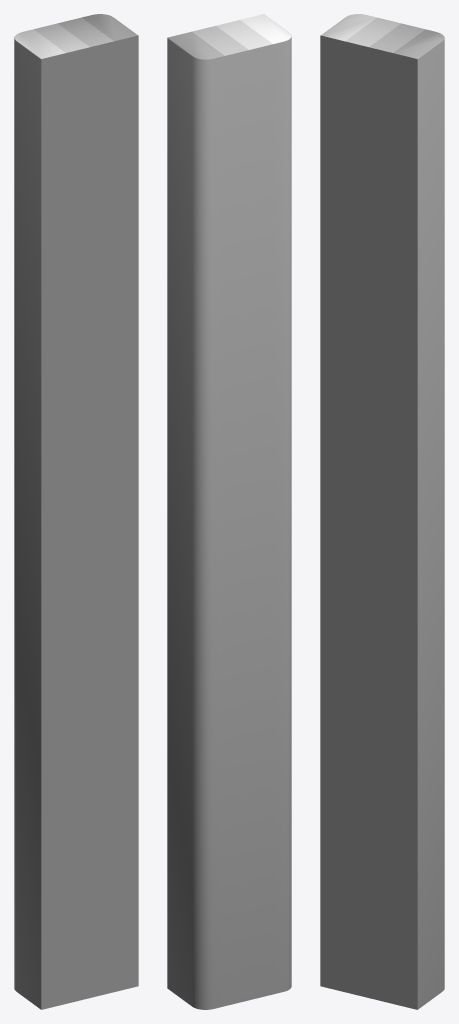
Rendered from start.FBX.
3 renders of one model, left to right at view 1: azimuth 30°, elevation 25°; view 2: azimuth 210°, elevation 25°; view 3: azimuth 330°, elevation 25°, orthographic.
Visible parts, largest first — view 1: start; view 2: start; view 3: start.
Part boxes in pixels (x1,y1,x2,y2): start: (14,14,138,1009); start: (167,14,291,1009); start: (320,14,444,1009).
Bounding box in the file's own units: 12 × 112 × 7.
1 material, 1 textured.
